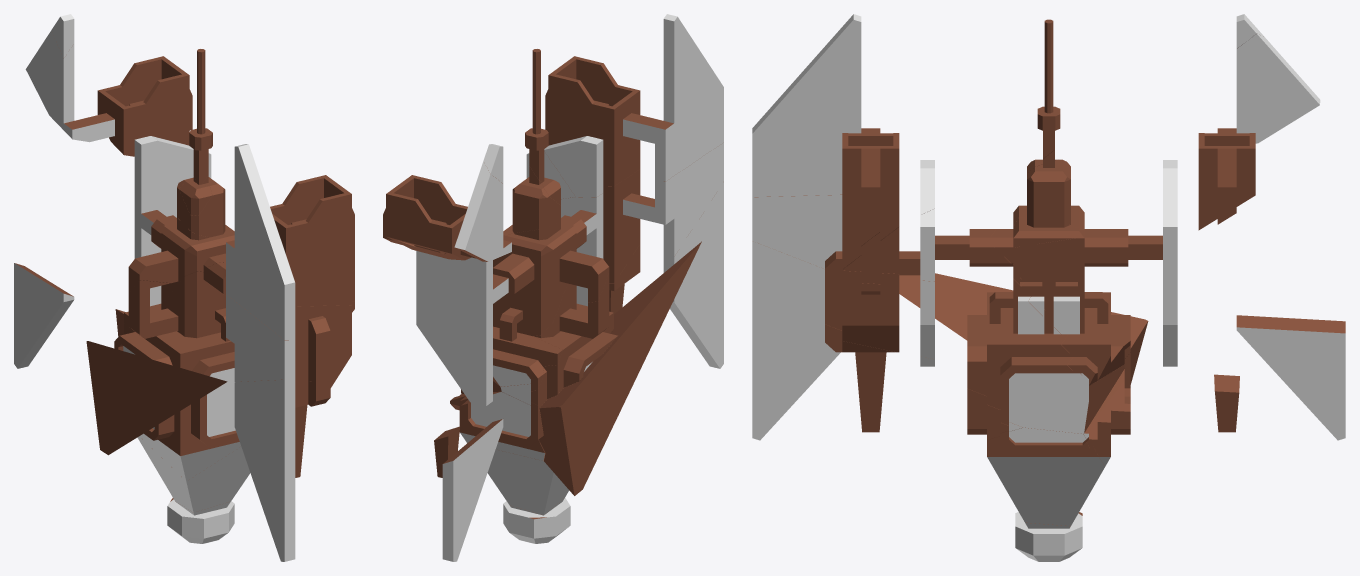
File: Shooter_Destroyed.fbx
3 views of the same model, side by side, from view 1: azimuth 30°, elevation 25°; view 2: azimuth 150°, elevation 25°; view 3: azimuth 270°, elevation 25° (orthographic). The views are drawn at different scales.
Visible parts, largest first — view 1: Cube_cell.013, Cube_cell.020, Cube_cell.007, Cube_cell.016, Cube_cell.010, Cube_cell.005, Cube_cell, Cube_cell.004, Cube_cell.023, Cube_cell.006, Cube_cell.001, Cube_cell.003 (+5 smaller); view 2: Cube_cell.005, Cube_cell.013, Cube_cell.007, Cube_cell.020, Cube_cell.010, Cube_cell, Cube_cell.016, Cube_cell.023, Cube_cell.009, Cube_cell.006, Cube_cell.011, Cube_cell.008 (+7 smaller); view 3: Cube_cell.013, Cube_cell, Cube_cell.005, Cube_cell.016, Cube_cell.010, Cube_cell.020, Cube_cell.006, Cube_cell.023, Cube_cell.008, Cube_cell.007, Cube_cell.015, Cube_cell.003 (+8 smaller).
Boxes of the visible parts, x1,y1,x2,y2 form: Cube_cell.013: [226, 144, 354, 339]; Cube_cell.020: [25, 31, 192, 156]; Cube_cell.007: [86, 341, 227, 455]; Cube_cell.016: [234, 379, 295, 561]; Cube_cell.010: [226, 294, 354, 381]; Cube_cell.005: [124, 140, 225, 323]; Cube_cell: [114, 262, 234, 384]; Cube_cell.004: [139, 384, 241, 481]; Cube_cell.023: [14, 263, 74, 368]; Cube_cell.006: [137, 436, 250, 512]; Cube_cell.001: [179, 49, 212, 215]; Cube_cell.003: [167, 498, 234, 543]; Cube_cell.005: [416, 221, 609, 405]; Cube_cell.013: [545, 14, 723, 186]; Cube_cell.007: [539, 241, 701, 495]; Cube_cell.020: [383, 161, 511, 261]; Cube_cell.010: [603, 142, 723, 282]; Cube_cell: [461, 193, 617, 407]; Cube_cell.016: [663, 182, 723, 368]; Cube_cell.023: [442, 419, 503, 561]; Cube_cell.009: [450, 391, 544, 460]; Cube_cell.006: [454, 407, 569, 514]; Cube_cell.011: [544, 136, 603, 197]; Cube_cell.008: [503, 166, 560, 235]; Cube_cell.013: [752, 14, 899, 269]; Cube_cell: [920, 229, 1130, 433]; Cube_cell.005: [990, 168, 1177, 385]; Cube_cell.016: [752, 241, 840, 440]; Cube_cell.010: [752, 194, 920, 352]; Cube_cell.020: [1198, 34, 1320, 230]; Cube_cell.006: [987, 427, 1105, 525]; Cube_cell.023: [1236, 315, 1345, 440]; Cube_cell.008: [1013, 150, 1082, 247]; Cube_cell.007: [899, 273, 1148, 384]; Cube_cell.015: [825, 324, 895, 432]; Cube_cell.003: [1015, 512, 1082, 561].
Size of the model in its own units: 282 by 948 by 959.
